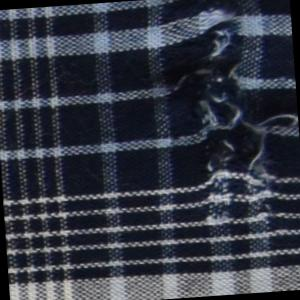Damage: (153, 1, 300, 234)
